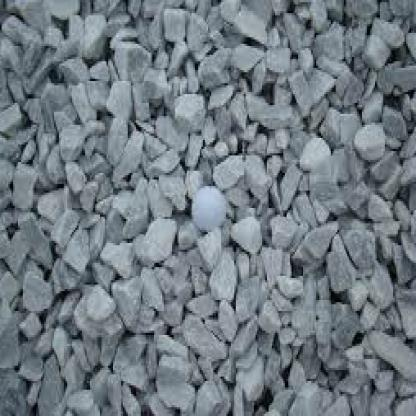Metamorphic_Marble: (72, 274, 118, 344), (108, 127, 147, 195), (292, 55, 342, 107), (192, 175, 229, 237), (139, 214, 182, 260), (165, 90, 213, 131), (226, 313, 267, 359), (246, 142, 275, 206), (228, 2, 272, 44), (288, 372, 332, 414), (211, 243, 242, 302), (295, 132, 331, 180), (306, 214, 342, 260), (354, 116, 390, 160), (260, 243, 288, 287)
